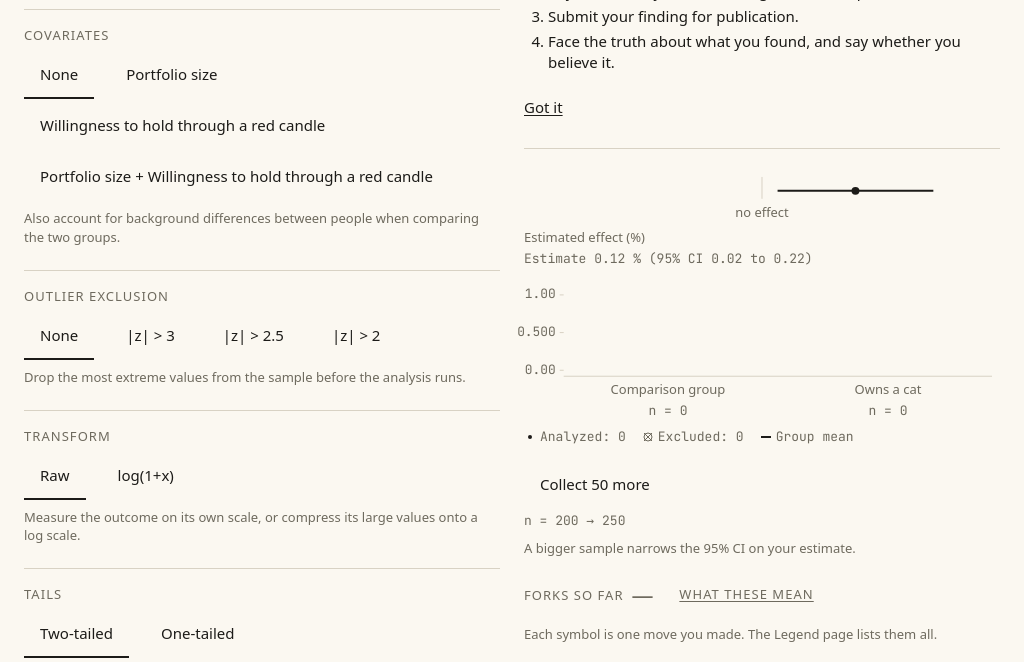
Test: Lab › disables "Collect more" once N has reached 400
(page scrolled)
Click the button "Collect 50 more". click: (595, 485)
box: [524,462,666,508]
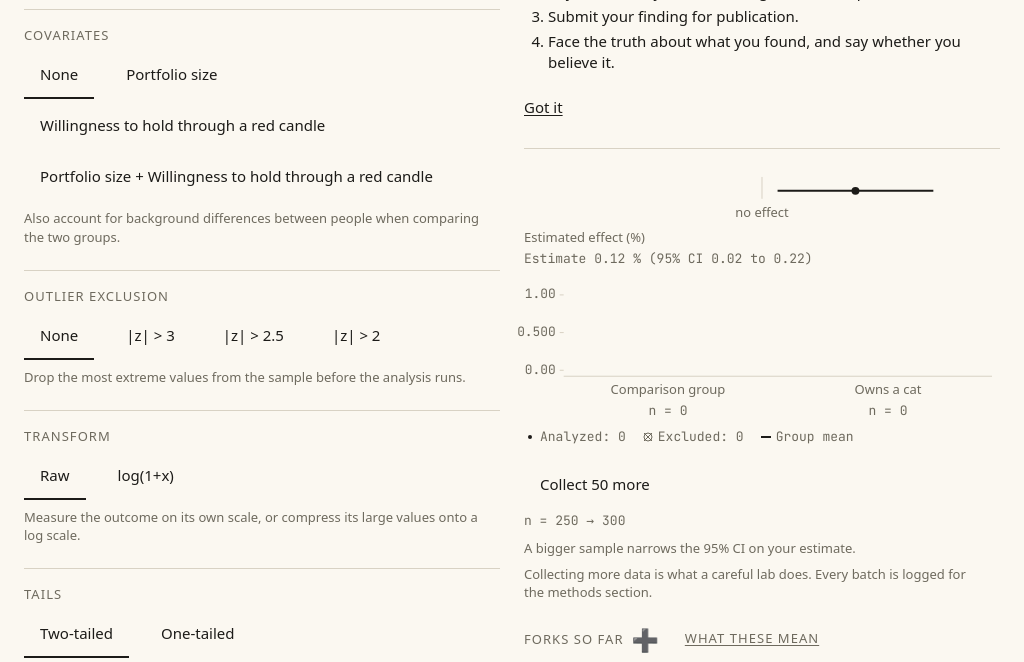
Click the button "Collect 50 more". click: (595, 485)
box: [524,462,666,508]
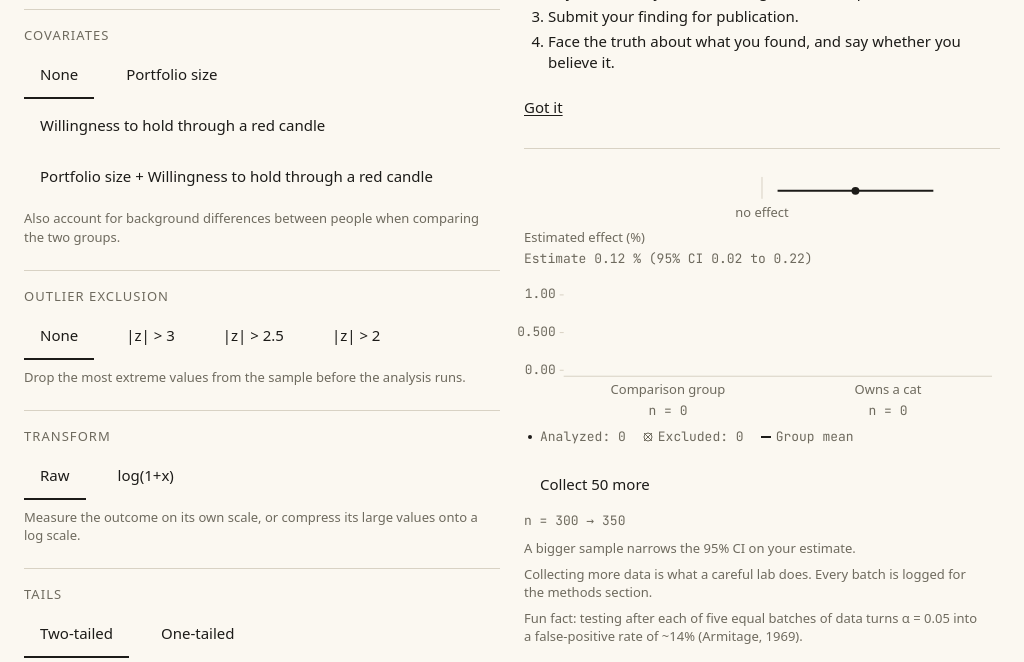
Click the button "Collect 50 more". click: (595, 485)
box: [524,462,666,508]
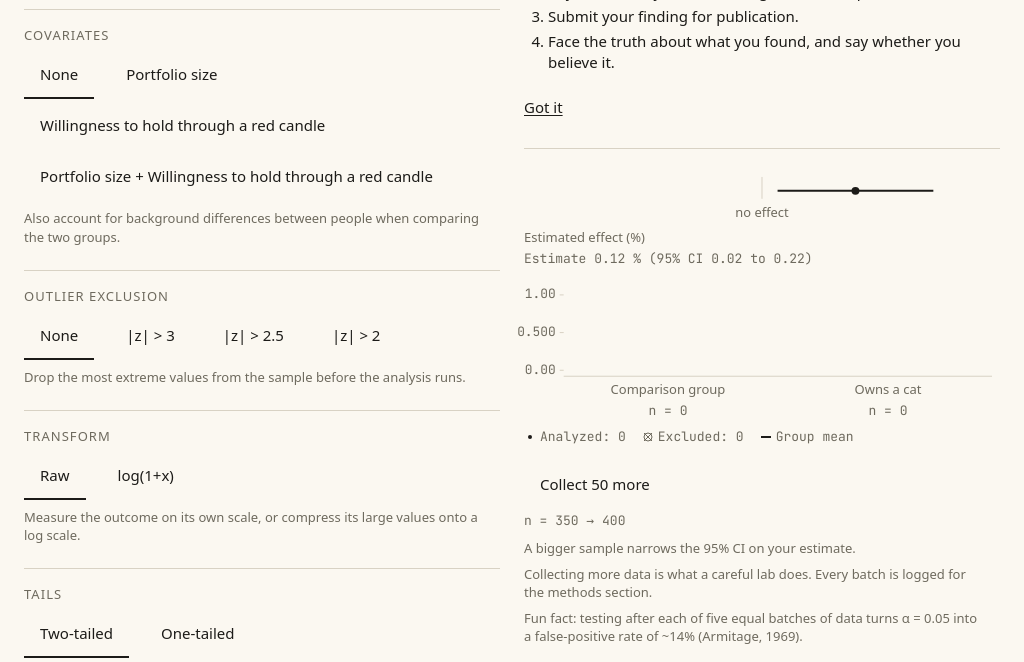
Click the button "Collect 50 more". click: (595, 485)
box: [524,462,666,508]
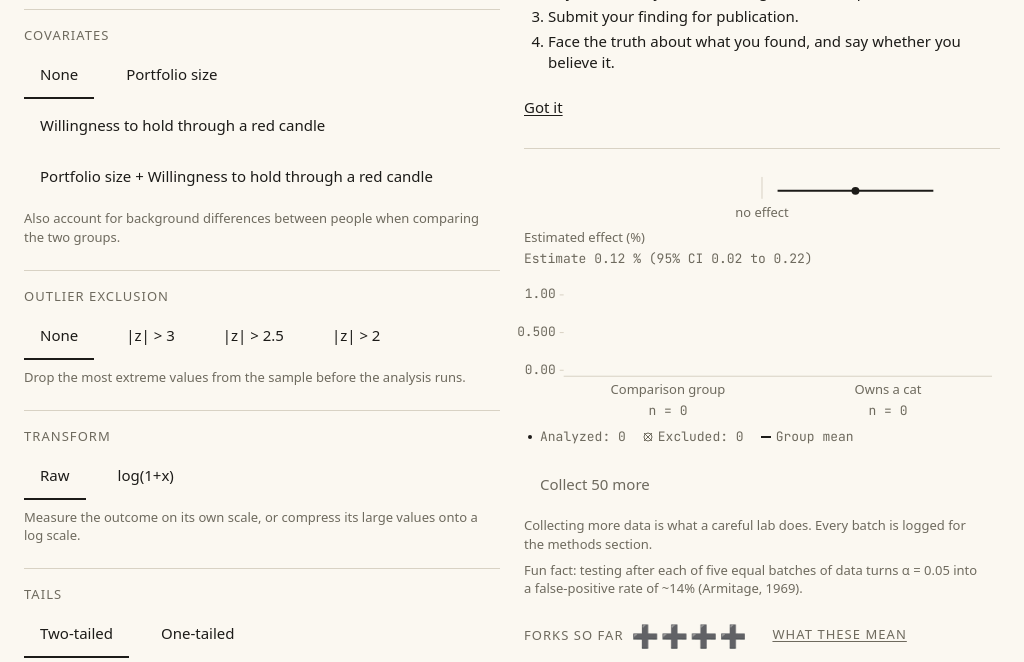
expect the button "Collect 50 more" is disabled: met, box [524,462,666,508]
